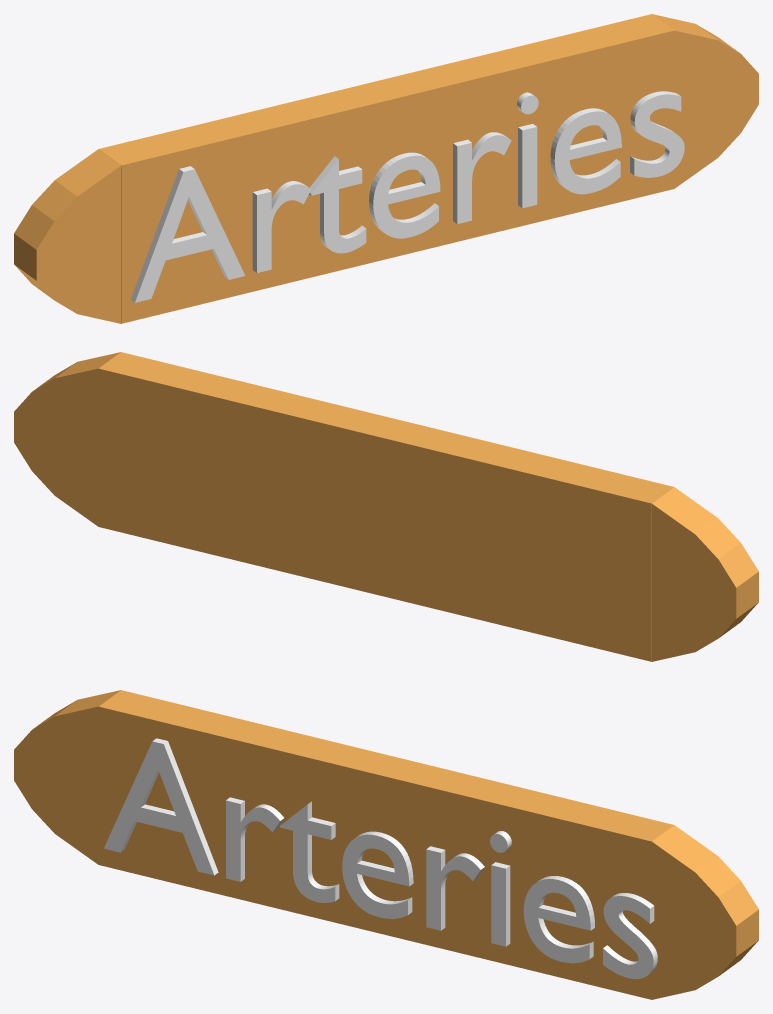
The model's file is txtArteries.fbx.
3 renders of one model, top to bottom at view 1: azimuth 30°, elevation 25°; view 2: azimuth 150°, elevation 25°; view 3: azimuth 330°, elevation 25°, orthographic.
Visible parts, largest first — view 1: TagContainer.033, Text.034; view 2: TagContainer.033; view 3: TagContainer.033, Text.034.
Boxes of the visible parts, x1,y1,x2,y2 form: TagContainer.033: (14,14,758,323); Text.034: (130,91,684,302); TagContainer.033: (14,352,758,661); TagContainer.033: (14,690,758,999); Text.034: (104,738,657,979).
Bounding box in the file's own units: 197 × 41.3 × 12.69.
